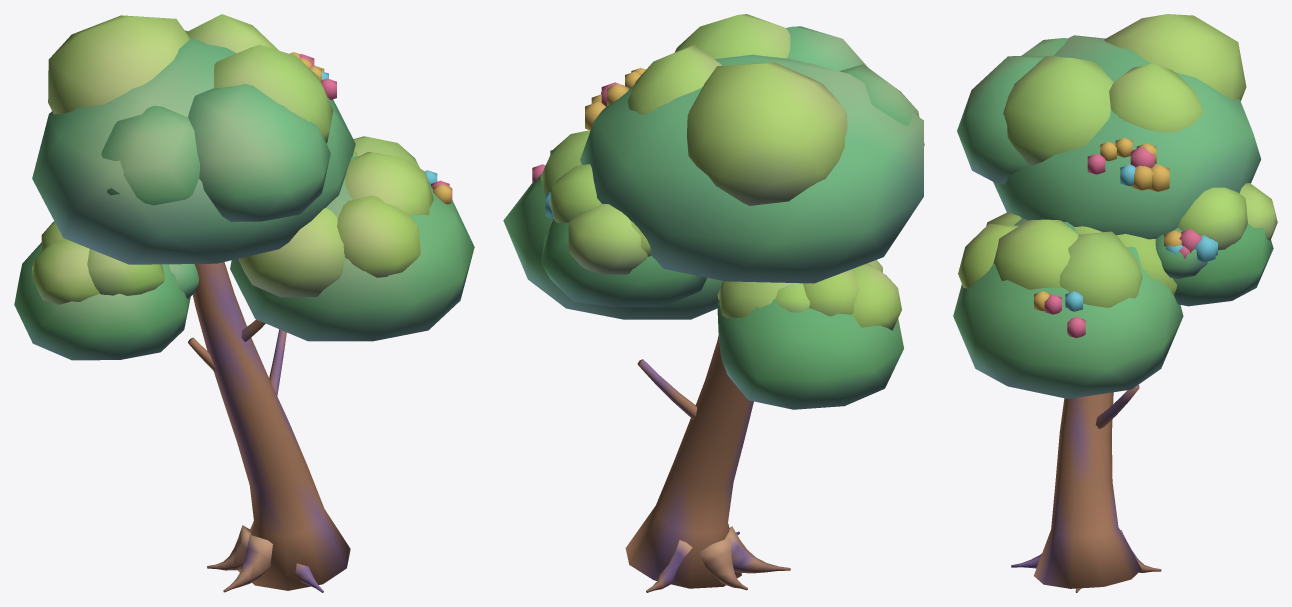
File: verdant_tree_puffcap_b.glb
The picture shows the model from 3 angles, left to right: view 1: azimuth 30°, elevation 25°; view 2: azimuth 150°, elevation 25°; view 3: azimuth 270°, elevation 25°; orthographic projection. The views are drawn at different scales.
Visible parts, largest first — view 1: verdant_tree_puffcap_b; view 2: verdant_tree_puffcap_b; view 3: verdant_tree_puffcap_b.
Boxes of the visible parts, x1=… form: verdant_tree_puffcap_b: x1=14, y1=14, x2=474, y2=592; verdant_tree_puffcap_b: x1=503, y1=14, x2=924, y2=592; verdant_tree_puffcap_b: x1=953, y1=14, x2=1277, y2=592.
Bounding box in the file's own units: 7.77 × 10.32 × 5.94.
